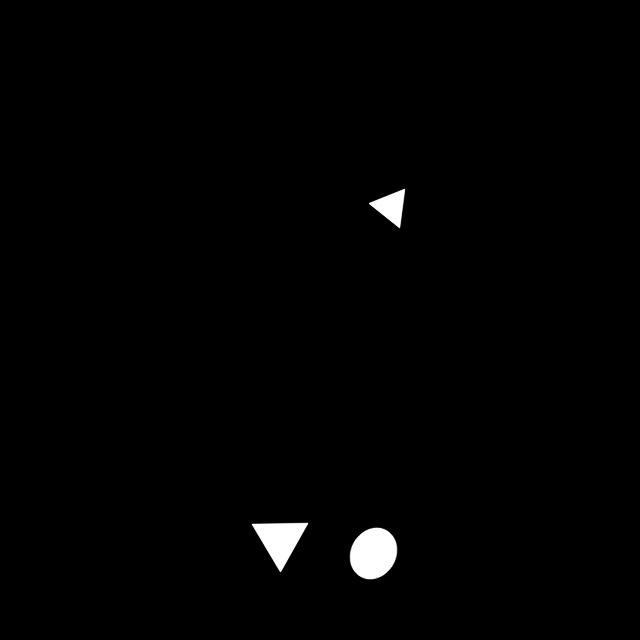Circle: (340, 523, 406, 589)
Triangle: (239, 510, 325, 584), (354, 173, 420, 239)
